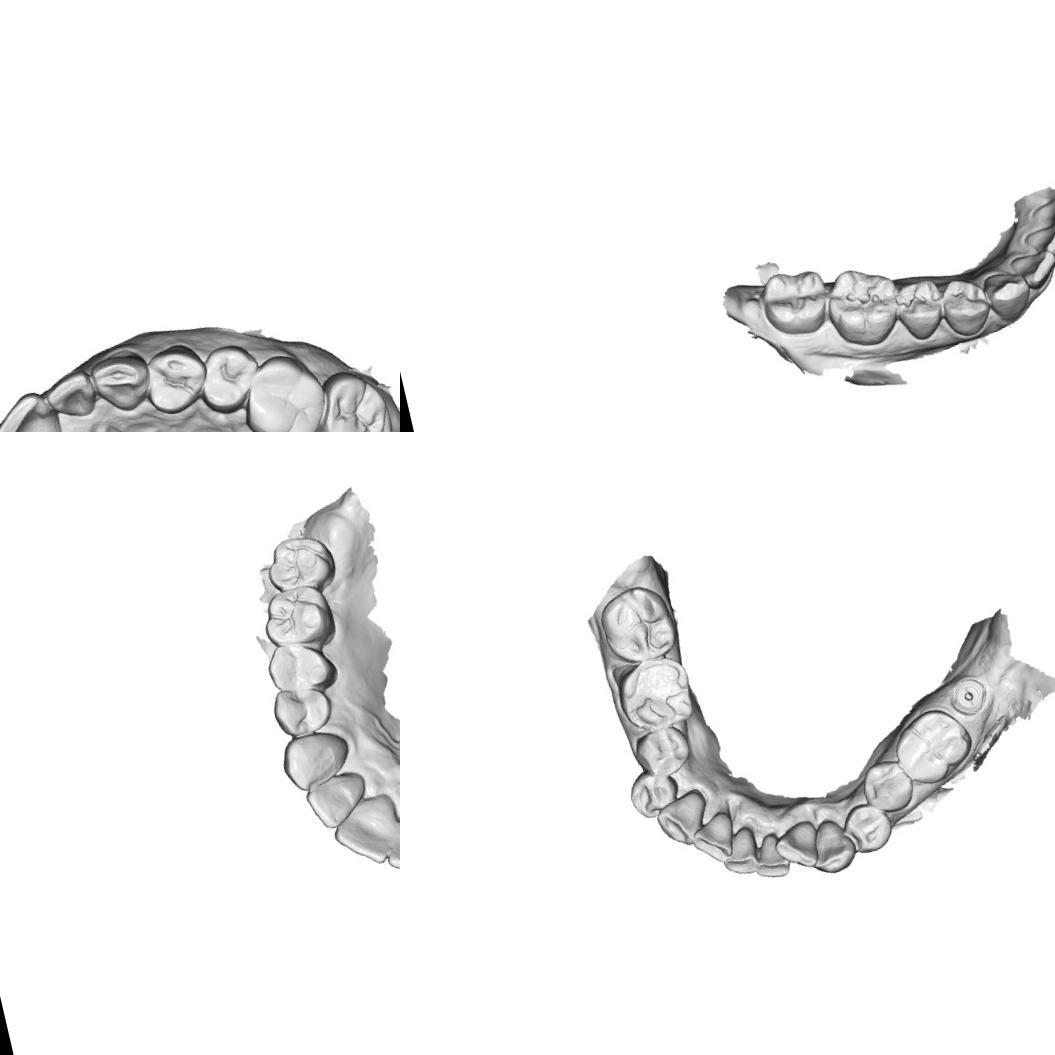canine: (275, 725, 356, 796), (84, 346, 156, 420), (651, 786, 715, 852), (978, 266, 1036, 328), (804, 815, 860, 878)
implant_minus: (943, 671, 993, 721)
incisor: (326, 793, 400, 874), (302, 768, 374, 834), (686, 807, 742, 870), (40, 368, 102, 424), (770, 817, 824, 876), (0, 387, 61, 432), (716, 824, 764, 881), (1006, 246, 1055, 295), (748, 830, 792, 882), (378, 807, 400, 884), (1019, 218, 1055, 261), (1028, 192, 1055, 231)
molar: (231, 344, 340, 432), (819, 260, 909, 355), (887, 700, 980, 791), (593, 579, 683, 670), (611, 652, 698, 736), (298, 359, 398, 432), (255, 580, 341, 660), (756, 263, 835, 342), (261, 528, 341, 603)
premolar: (190, 337, 268, 420), (138, 339, 213, 419), (261, 634, 341, 702), (268, 680, 337, 741), (935, 272, 995, 342), (891, 275, 950, 345), (857, 755, 920, 818), (629, 723, 695, 782), (837, 798, 897, 858), (624, 764, 684, 822)
